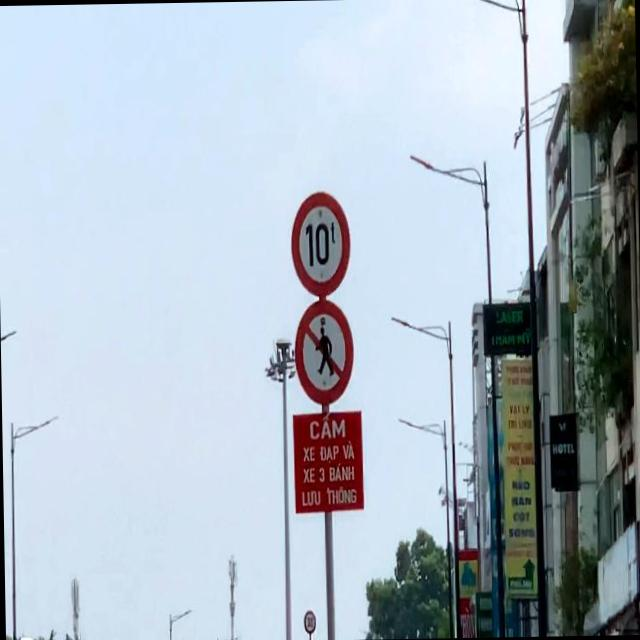P-112: (294, 300, 356, 406)
P-115: (288, 192, 353, 296)
